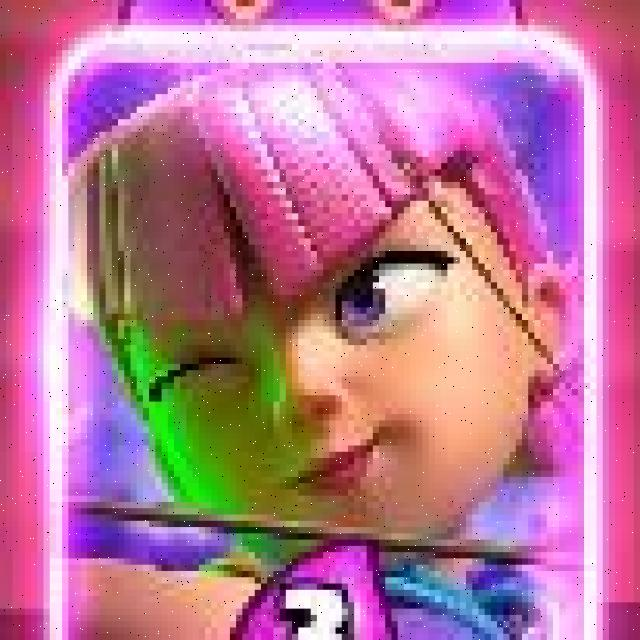Evolved_Archers: (38, 17, 611, 640)
